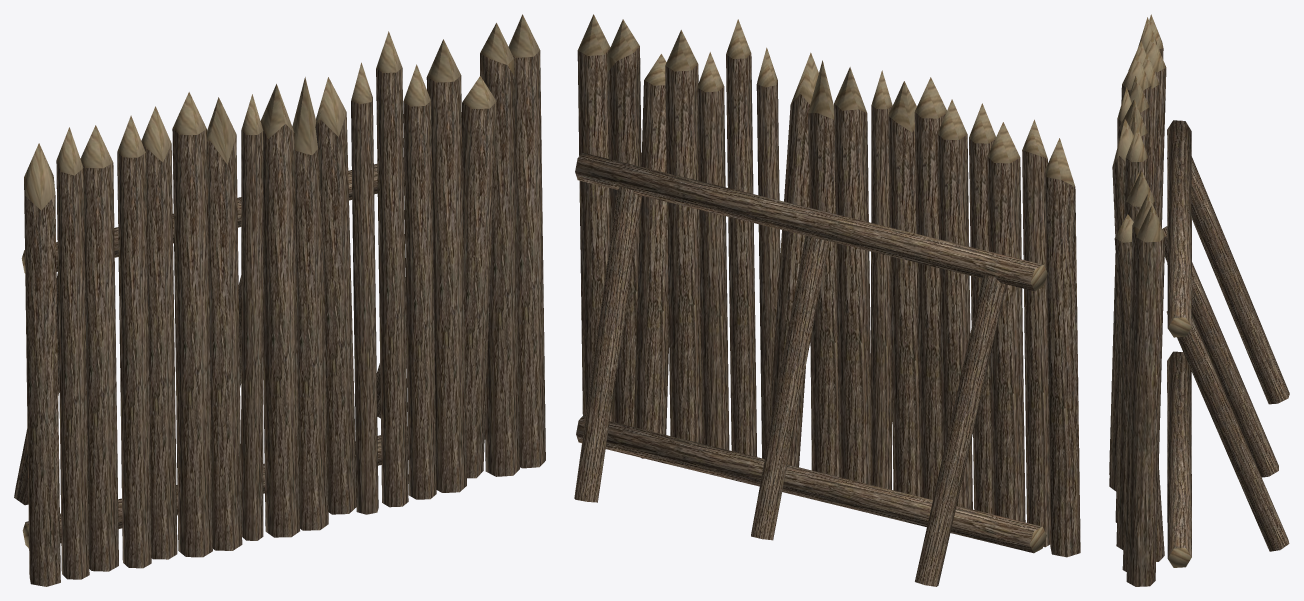
The model's file is Barricade_Tall.fbx.
3 renders of one model, left to right at view 1: azimuth 30°, elevation 25°; view 2: azimuth 150°, elevation 25°; view 3: azimuth 270°, elevation 25°, orthographic. The views are drawn at different scales.
Parts seen in each view (by area): view 1: BarricadeLong.001.frozen.001; view 2: BarricadeLong.001.frozen.001; view 3: BarricadeLong.001.frozen.001.
Boxes of the visible parts, box(x1,y1,x2,y2) form: BarricadeLong.001.frozen.001: box(14, 14, 545, 586); BarricadeLong.001.frozen.001: box(574, 14, 1080, 586); BarricadeLong.001.frozen.001: box(1109, 14, 1289, 586).
Bounding box in the file's own units: 265 × 231 × 95.56.
